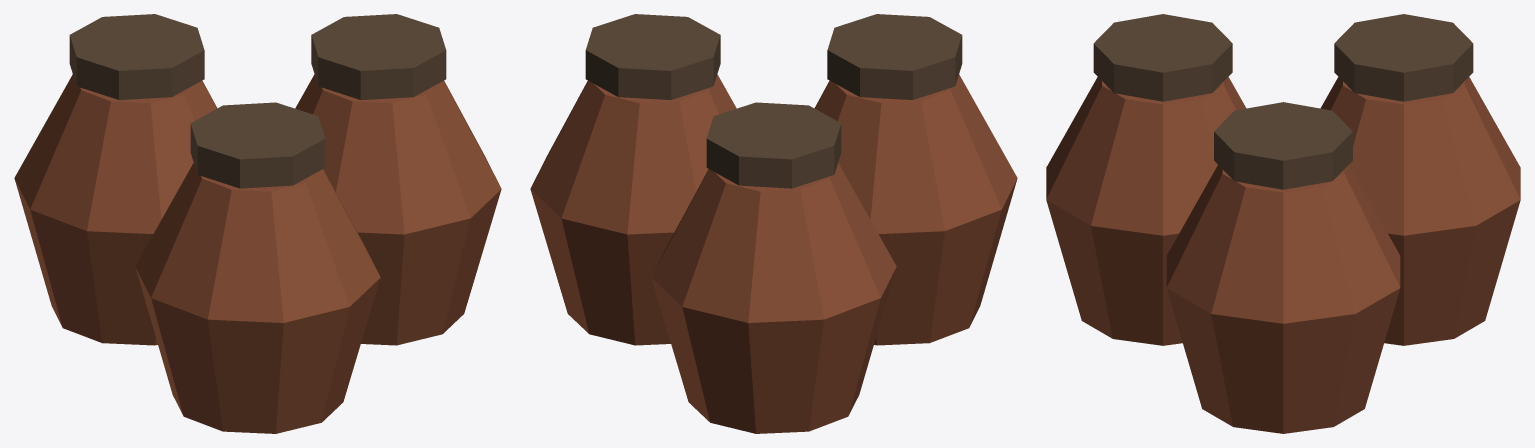
Rendered from P_WaterJugs.glb.
3 views of the same model, side by side, from view 1: azimuth 30°, elevation 25°; view 2: azimuth 150°, elevation 25°; view 3: azimuth 270°, elevation 25° (orthographic).
Visible parts, largest first — view 1: P_WaterJugs; view 2: P_WaterJugs; view 3: P_WaterJugs.
Boxes of the visible parts, x1,y1,x2,y2 form: P_WaterJugs: (14, 14, 501, 433); P_WaterJugs: (530, 14, 1017, 433); P_WaterJugs: (1046, 14, 1520, 433).
Size of the model in its own units: 0.85 by 0.55 by 0.8878.
